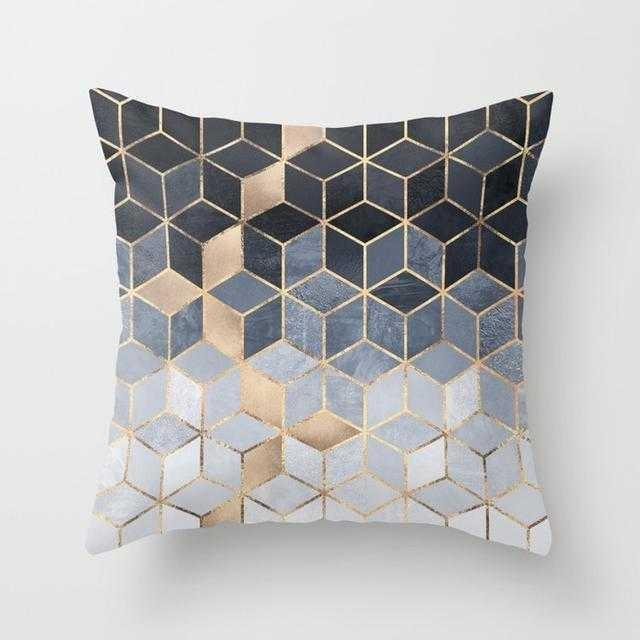pillow: (84, 86, 556, 558)
